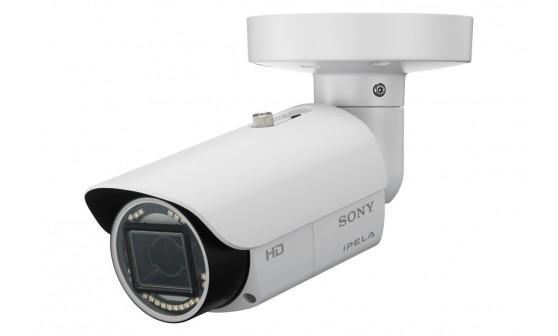CCTV: (84, 14, 474, 325)
